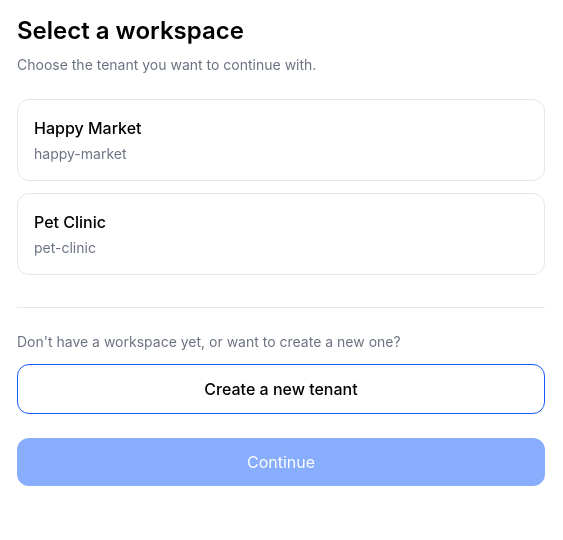
Test: TenantSelectionPage › displays an error when tenant selection fails
Click the button "Happy Market happy-market".
click(88, 128)  # box [17,99,545,181]
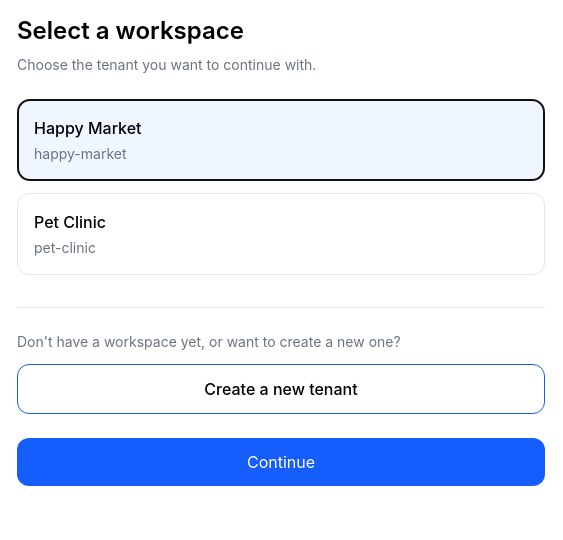
Click the button "Continue".
click(281, 462)  # box [17,438,545,486]
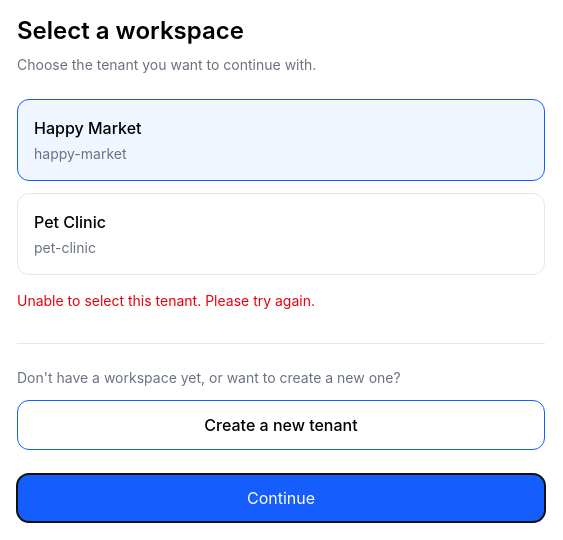
Expected: the heading "Select a workspace" is shown, [17,16,244,45]
Now the text "Unable to select this tenant. Please try again." is shown, box [17,292,315,309]
